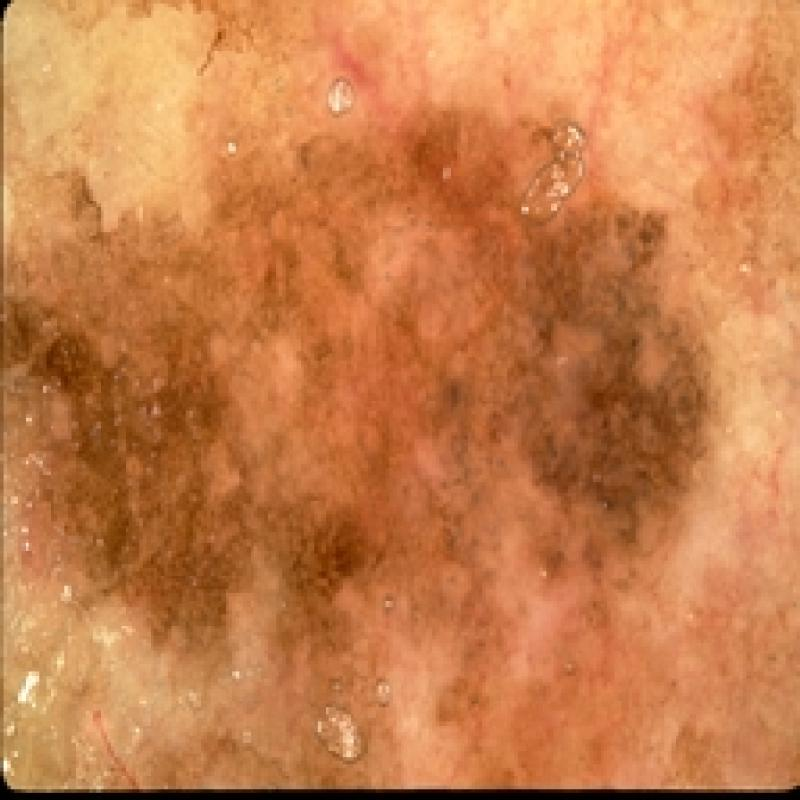malignant: (3, 106, 726, 691)
